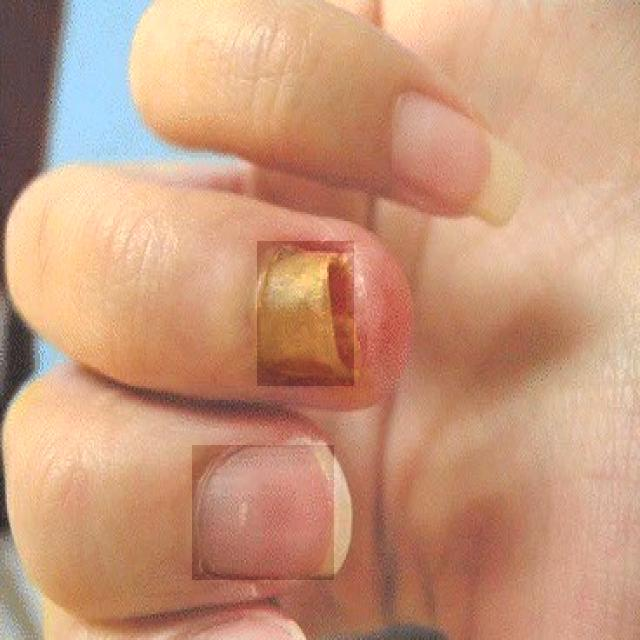diabetes: (257, 242, 354, 386)
sehat: (193, 445, 334, 580), (393, 94, 488, 211)
